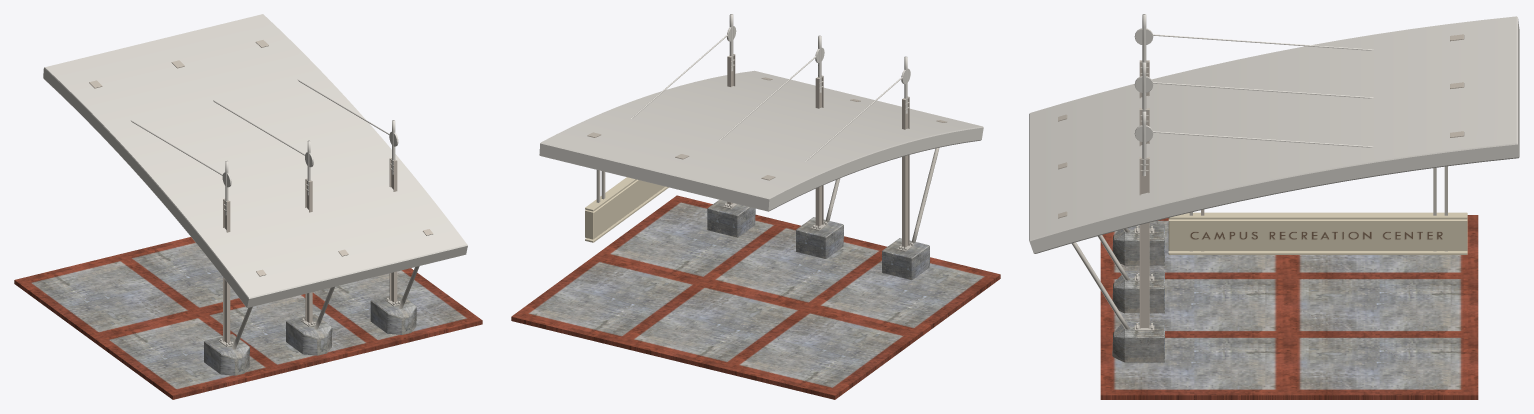
The model's file is crcRoof.dae.
3 views of the same model, side by side, from view 1: azimuth 30°, elevation 25°; view 2: azimuth 150°, elevation 25°; view 3: azimuth 270°, elevation 25° (orthographic). The views are drawn at different scales.
Parts seen in each view (by area): view 1: roof, pCube29, pCube2, pCube20, pCube32, polySurface4, polySurface2, polySurface3; view 2: pCube29, roof, pCube17, pCube32, pCube20, pCube2, polySurface4, polySurface3, pCylinder23, pCube18; view 3: roof, pCube29, pCube17, pCube18, pCube2, pCube20, pCube32, polySurface2, pCube19, pCylinder7, pCylinder25, pCylinder14 (+1 smaller).
Boxes of the visible parts, box(x1,y1,x2,y2) form: roof: box(43, 14, 467, 307); pCube29: box(14, 237, 482, 399); pCube2: box(370, 293, 416, 334); pCube20: box(286, 314, 332, 355); pCube32: box(204, 334, 249, 375); polySurface4: box(223, 198, 230, 343); polySurface2: box(389, 158, 397, 302); polySurface3: box(305, 178, 312, 323); pCube29: box(511, 195, 1000, 399); roof: box(539, 70, 983, 211); pCube17: box(585, 179, 665, 239); pCube32: box(882, 238, 929, 279); pCube20: box(796, 217, 843, 258); pCube2: box(707, 200, 755, 237); polySurface4: box(902, 96, 909, 248); polySurface3: box(815, 75, 823, 227); pCylinder23: box(911, 147, 939, 243); pCube18: box(585, 177, 636, 211); roof: box(1029, 16, 1519, 253); pCube29: box(1100, 215, 1478, 399); pCube17: box(1168, 219, 1467, 250); pCube18: box(1168, 212, 1467, 219); pCube2: box(1112, 320, 1164, 362); pCube20: box(1112, 271, 1164, 313); pCube32: box(1112, 223, 1164, 265); polySurface2: box(1139, 157, 1149, 328); pCube19: box(1168, 251, 1467, 254); pCylinder7: box(1071, 242, 1129, 329); pCylinder25: box(1153, 34, 1373, 50); pCylinder14: box(1153, 82, 1373, 98).
Size of the model in its own units: 10.44 by 6.68 by 12.01.
